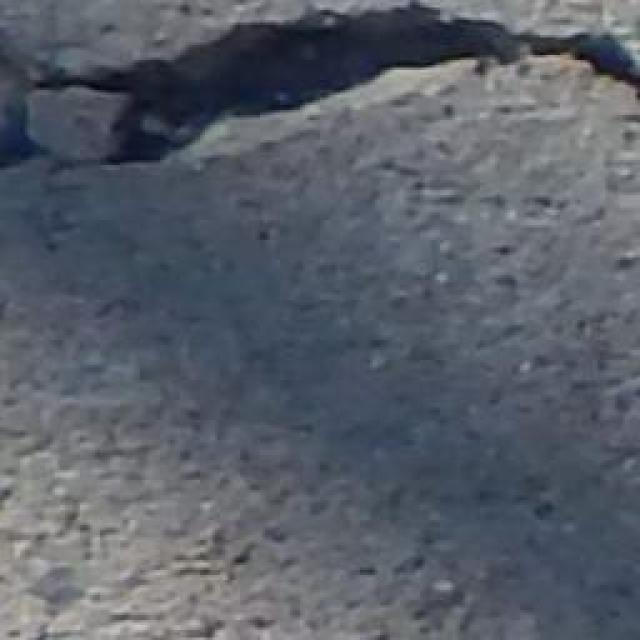concrete-crack: (3, 0, 640, 184)
